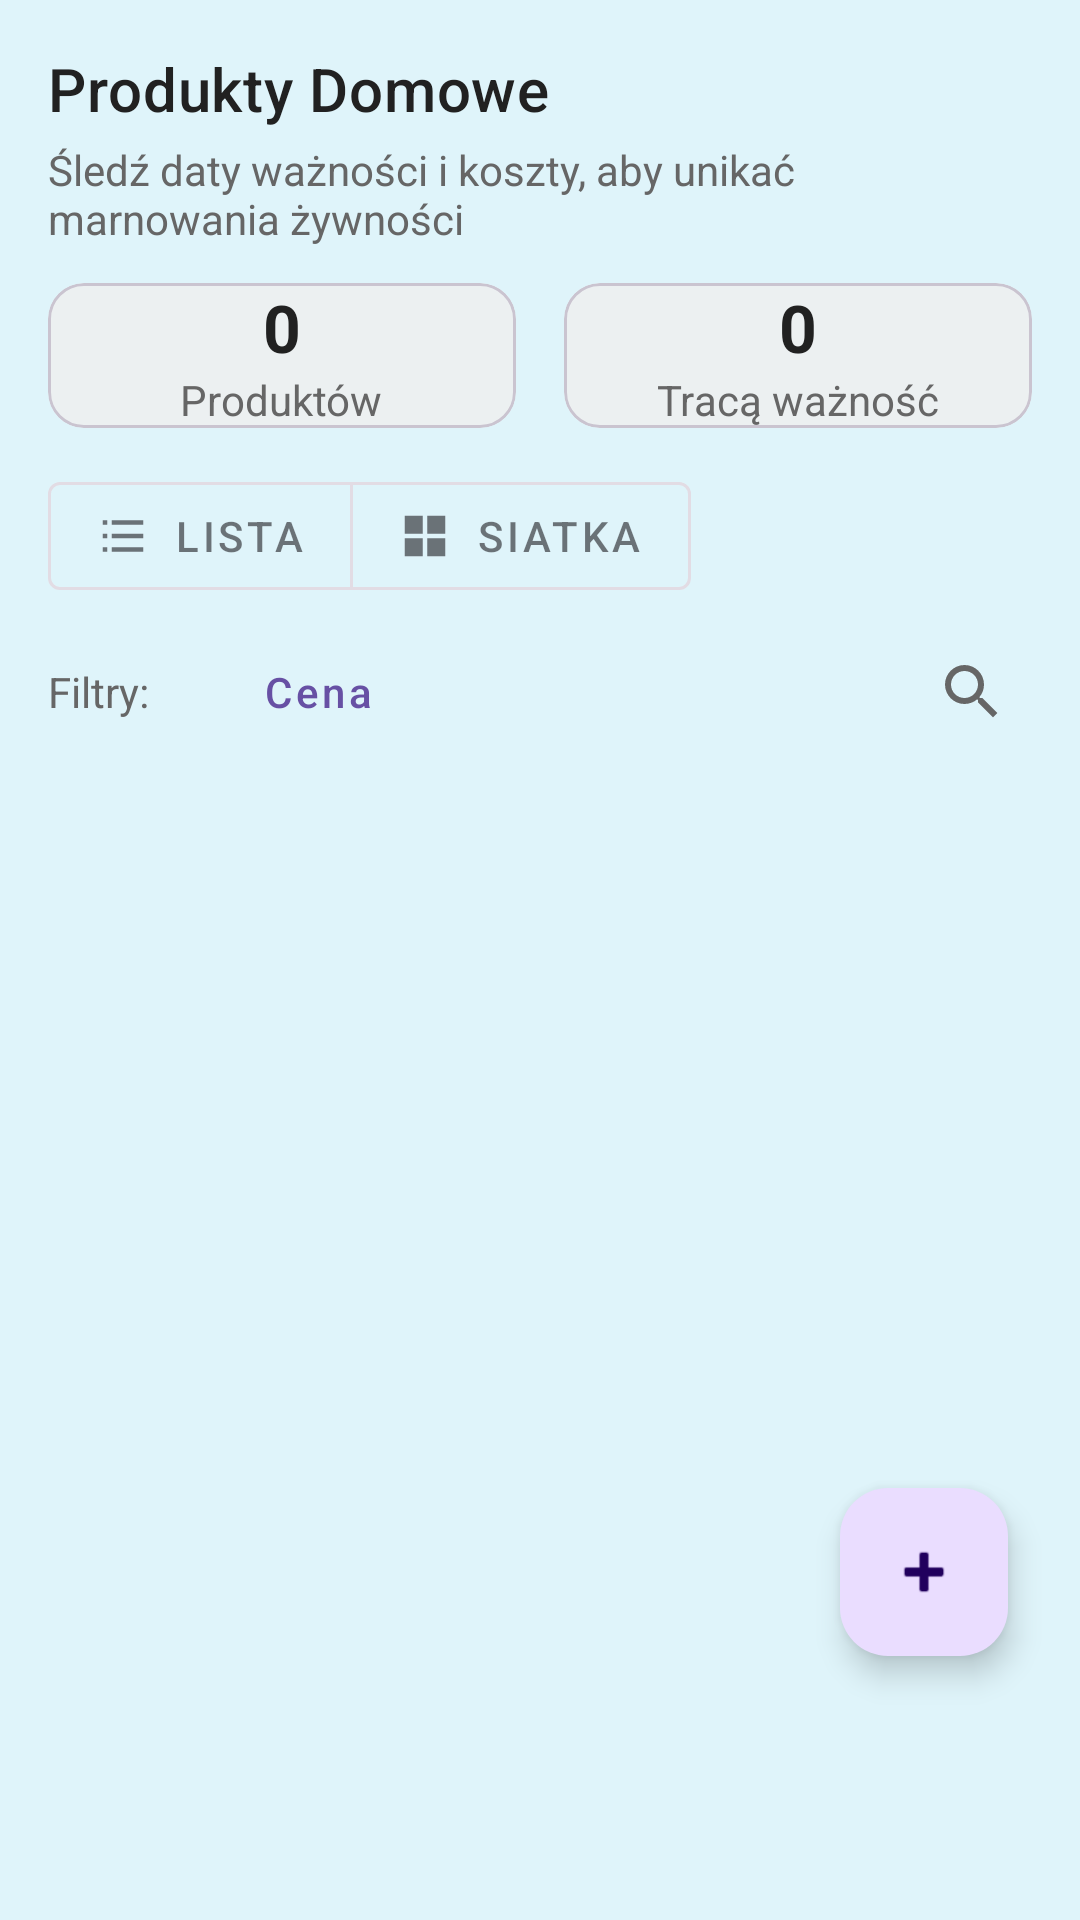

Locate icon controls on the screen. Image size 1080px×1920px, boxes as (x1, y1, x2, y2).
Dodaj produkt: (840, 1488, 1008, 1656)
Szukaj: (945, 665, 997, 717)
